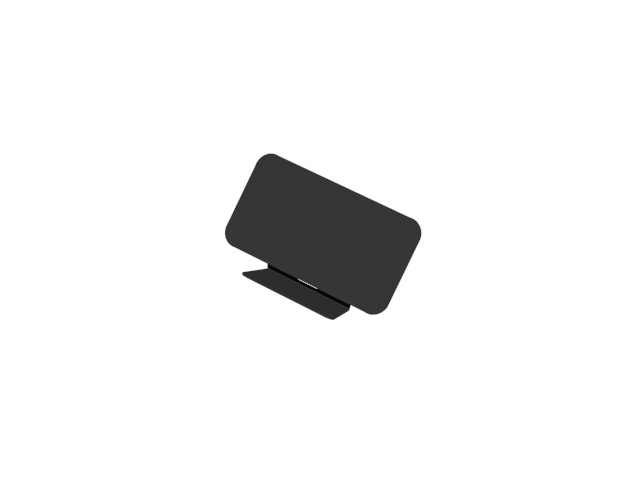monitor: (225, 153, 424, 327)
